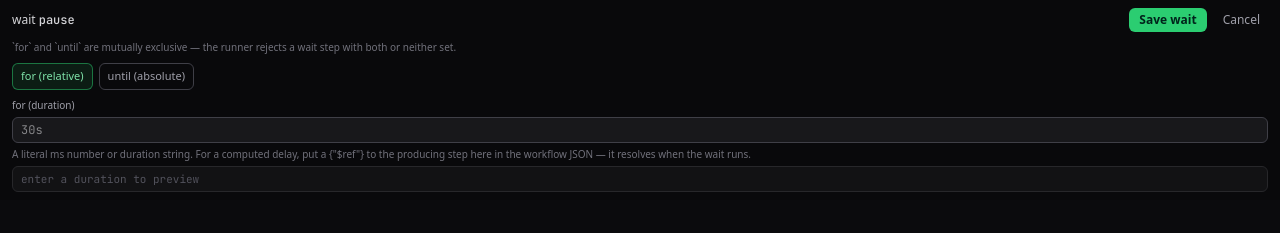
Test: WaitEditor — until (absolute deadline) › blocks save on an unparseable `until` instead of writing it silently
Step 1. Click the button "until (absolute)" → point(146, 76), box [99,63,194,90]
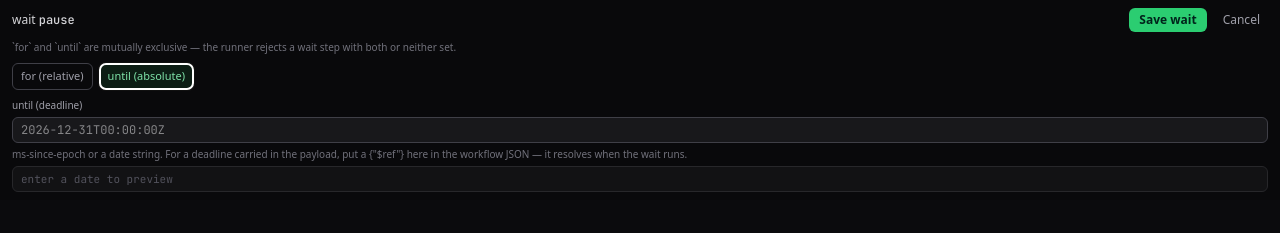
Step 2. Type "not-a-date" into the field labelled "until" → point(640, 130), box [12,116,1268,142]
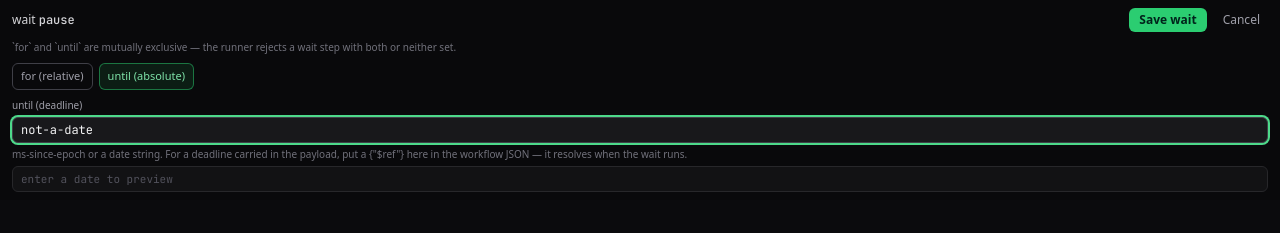
Step 3. Click the button "Save wait" → point(1168, 20), box [1129,8,1207,32]
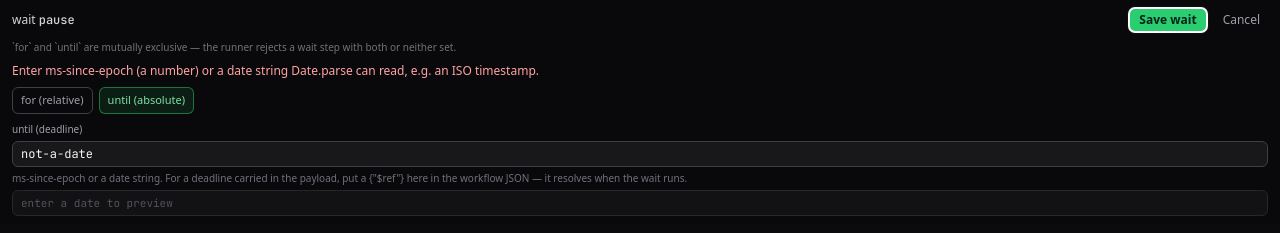
Now the text "Enter ms-since-epoch" is shown, box [12,62,539,79]
